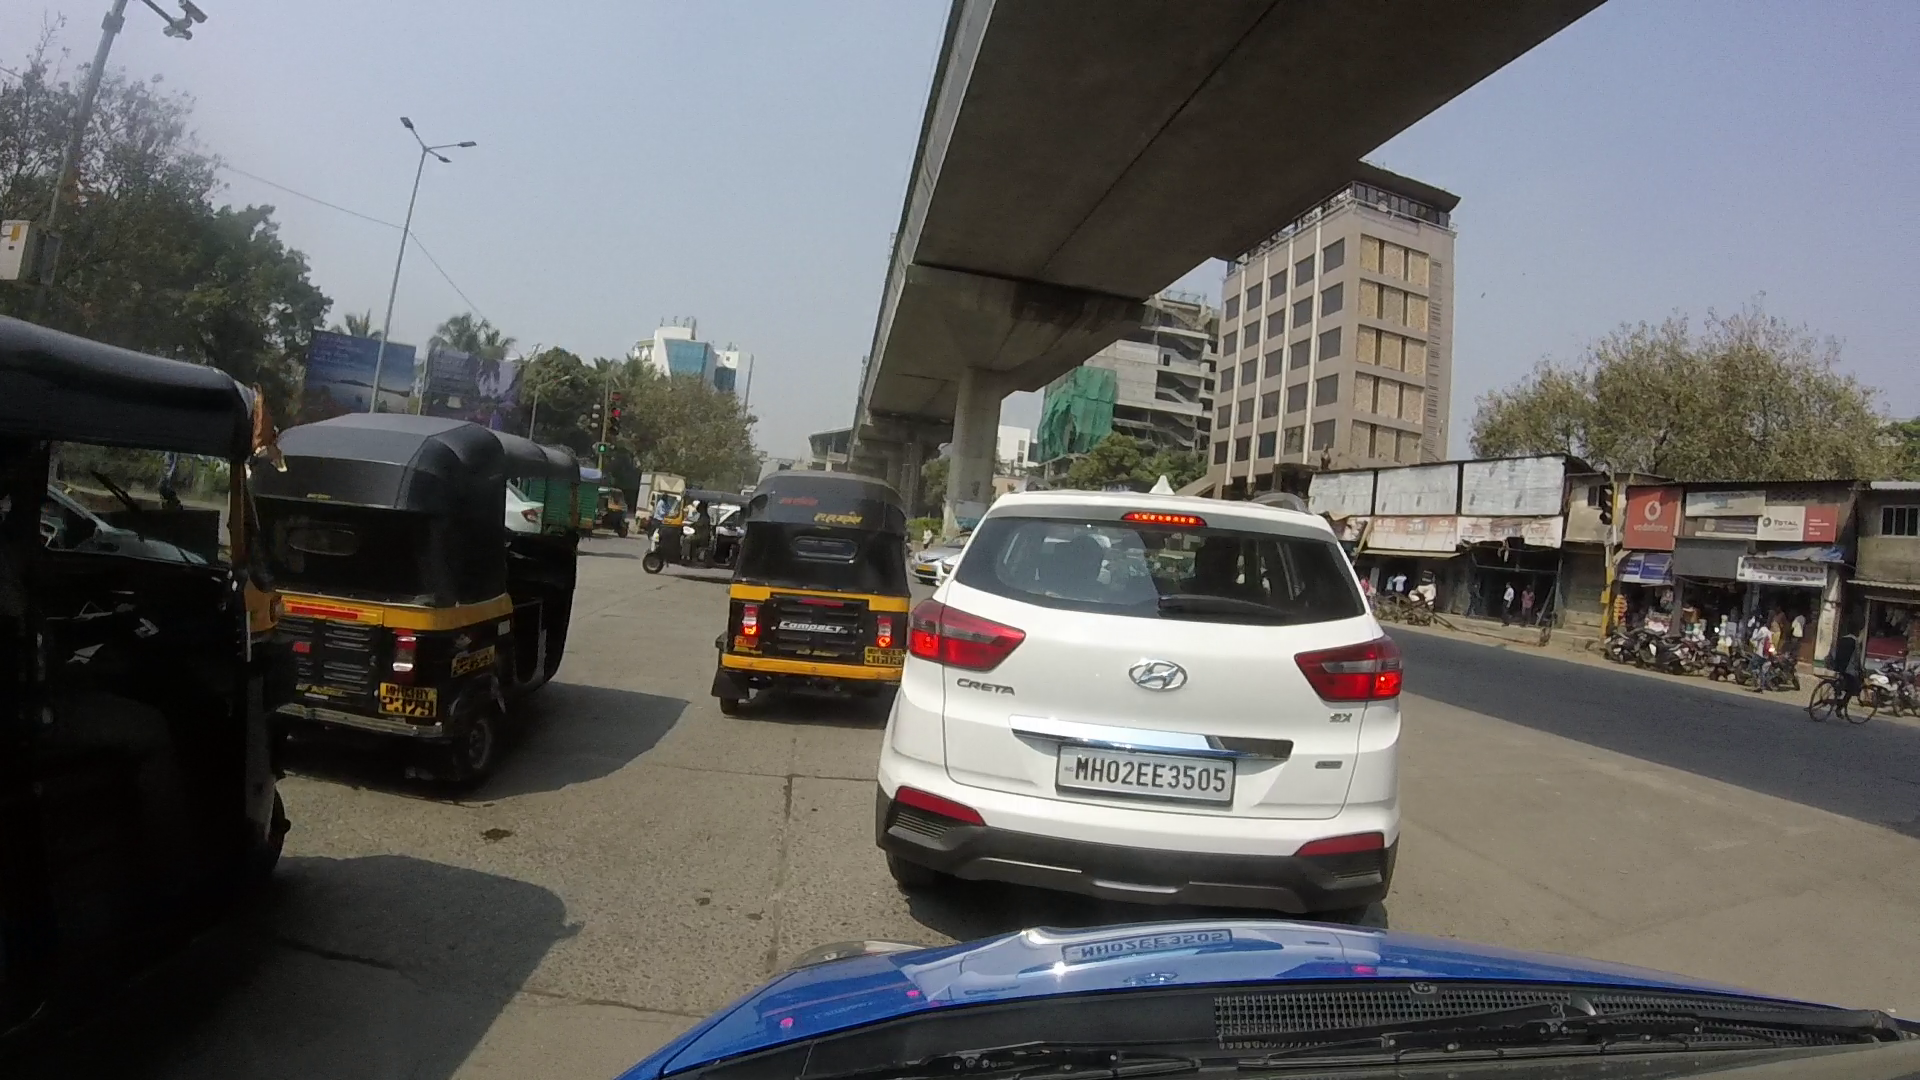car: (886, 487, 1418, 898)
rickshaw: (1, 307, 291, 1022), (265, 384, 585, 798), (686, 448, 905, 737), (645, 469, 735, 582)
